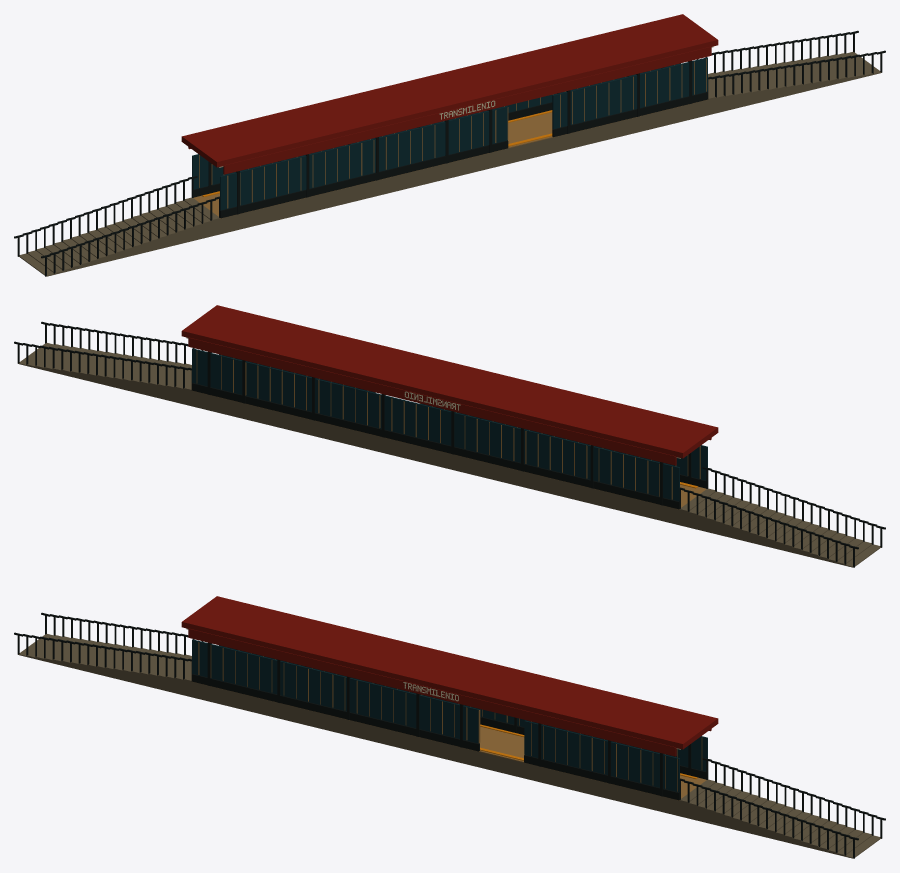
File: SM_Bogota_EstacionTransmi.fbx
3 views of the same model, one above another, from view 1: azimuth 30°, elevation 25°; view 2: azimuth 150°, elevation 25°; view 3: azimuth 330°, elevation 25° (orthographic).
Visible parts, largest first — view 1: SM_Bogota_EstacionTransmi; view 2: SM_Bogota_EstacionTransmi; view 3: SM_Bogota_EstacionTransmi.
Boxes of the visible parts, bbox=[...] form: SM_Bogota_EstacionTransmi: bbox=[14, 14, 885, 276]; SM_Bogota_EstacionTransmi: bbox=[14, 305, 885, 567]; SM_Bogota_EstacionTransmi: bbox=[14, 596, 885, 858].
Size of the model in its own units: 48.5 by 3.62 by 4.2.
